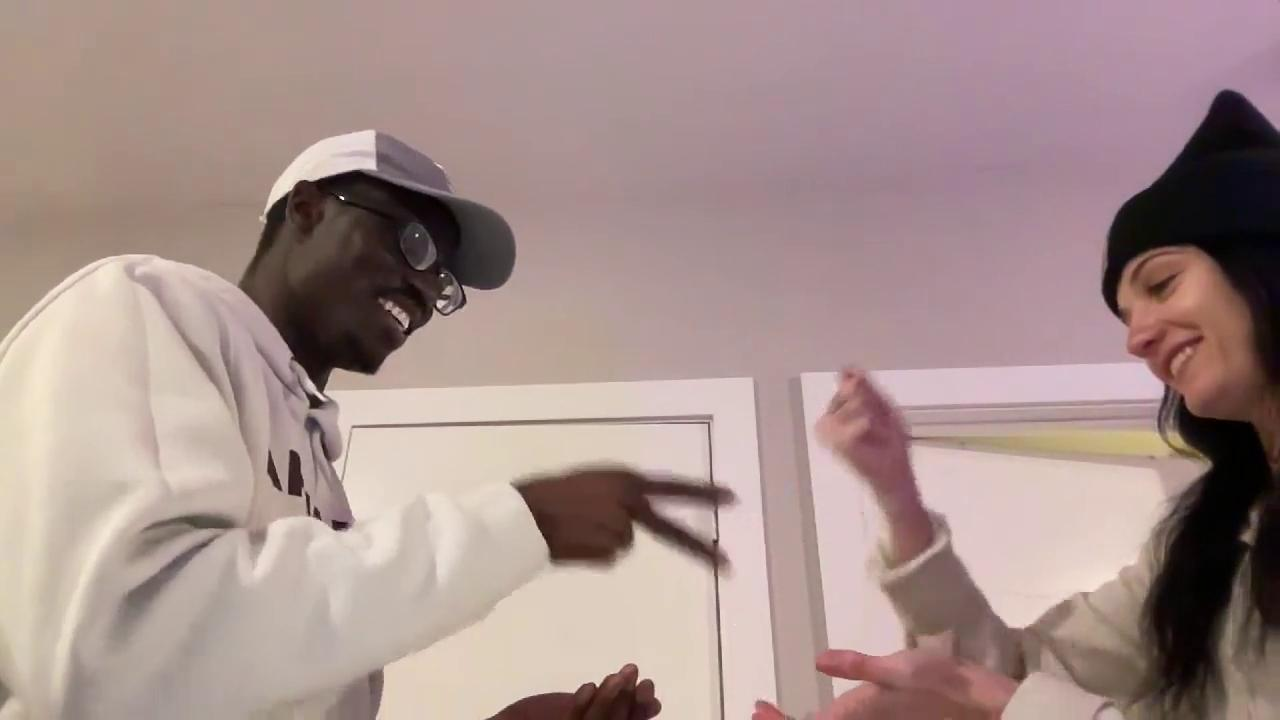Rock: (812, 365, 913, 478)
Scissors: (532, 460, 736, 576)
